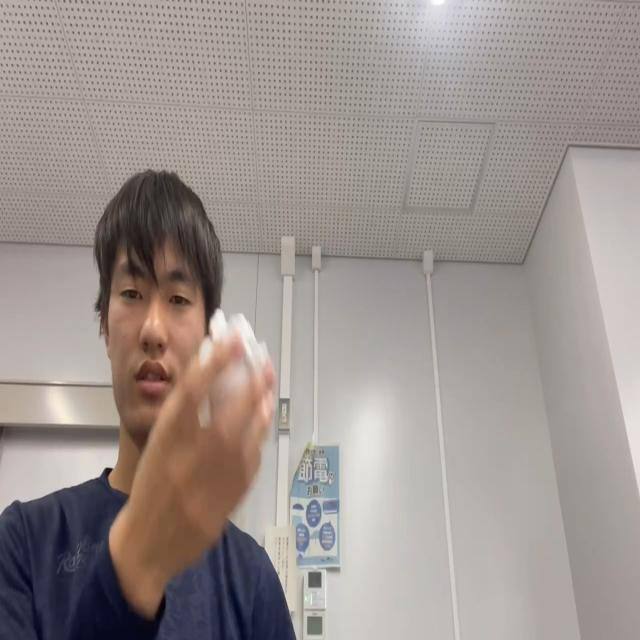paper: (196, 307, 270, 428)
